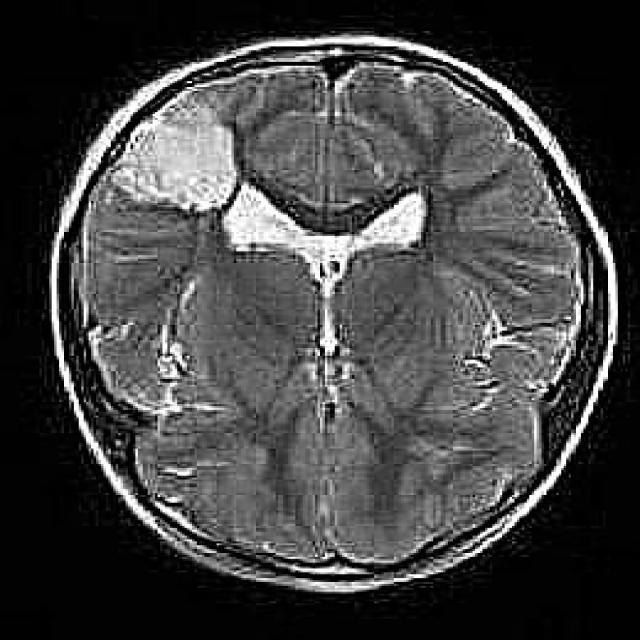Tumor-Cell: (122, 111, 248, 222)
